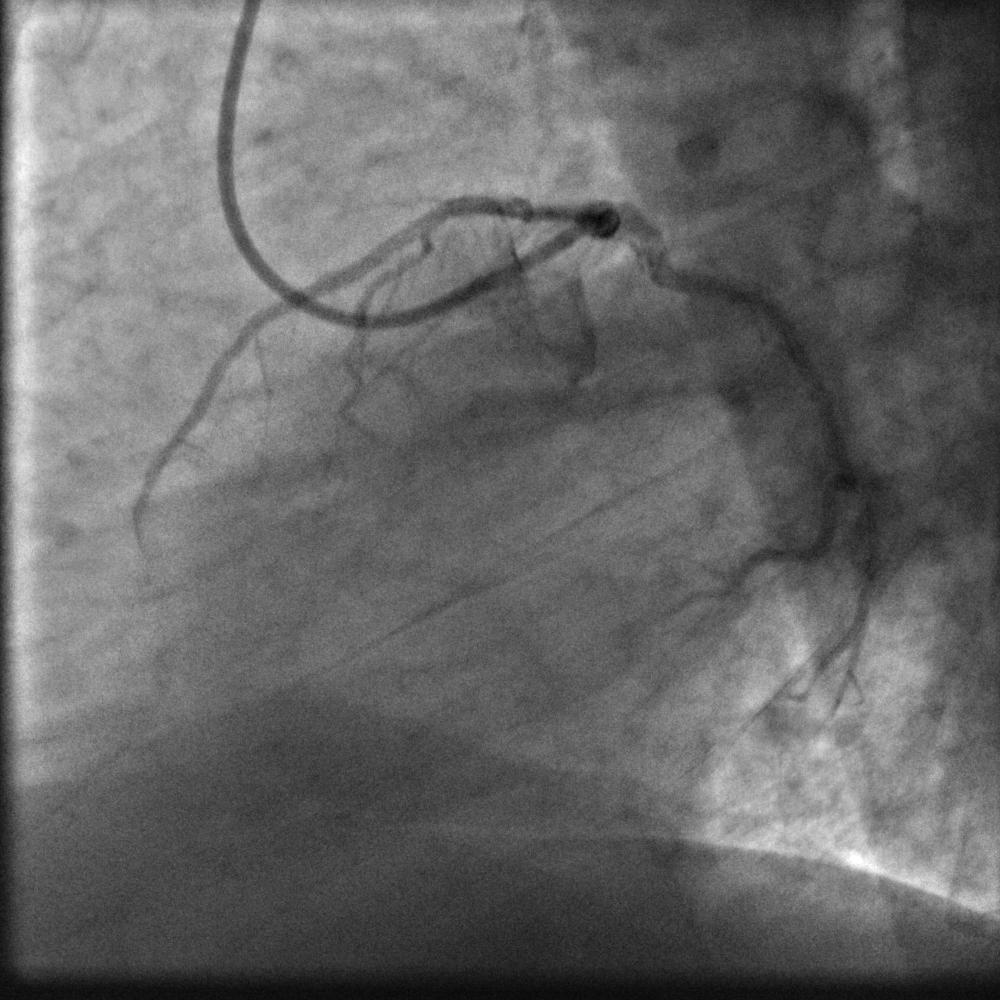Stenosis: (518, 196, 542, 222)
